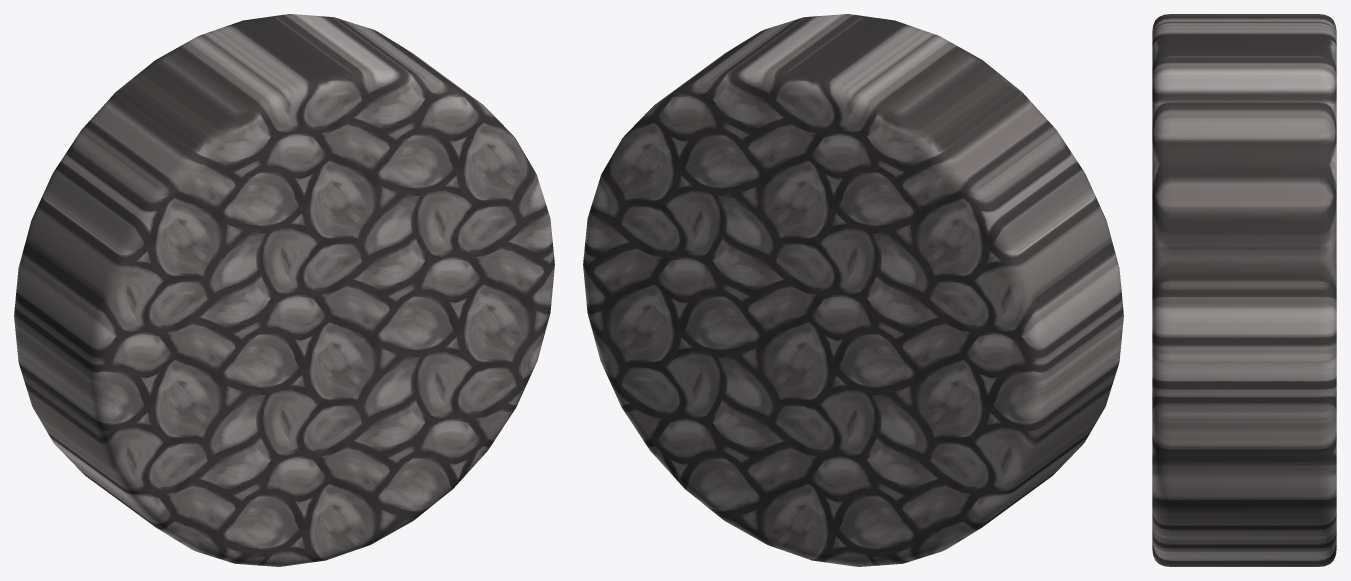
The model's file is circle_block.FBX.
3 renders of one model, left to right at view 1: azimuth 30°, elevation 25°; view 2: azimuth 150°, elevation 25°; view 3: azimuth 270°, elevation 25°, orthographic. The views are drawn at different scales.
Parts seen in each view (by area): view 1: Cylinder001; view 2: Cylinder001; view 3: Cylinder001.
Part boxes in pixels (x1,y1,x2,y2): Cylinder001: [14, 14, 554, 566]; Cylinder001: [583, 14, 1123, 566]; Cylinder001: [1152, 14, 1336, 566].
Bounding box in the file's own units: 3 × 3 × 1.
